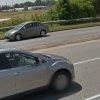Car: (3, 15, 52, 46)
